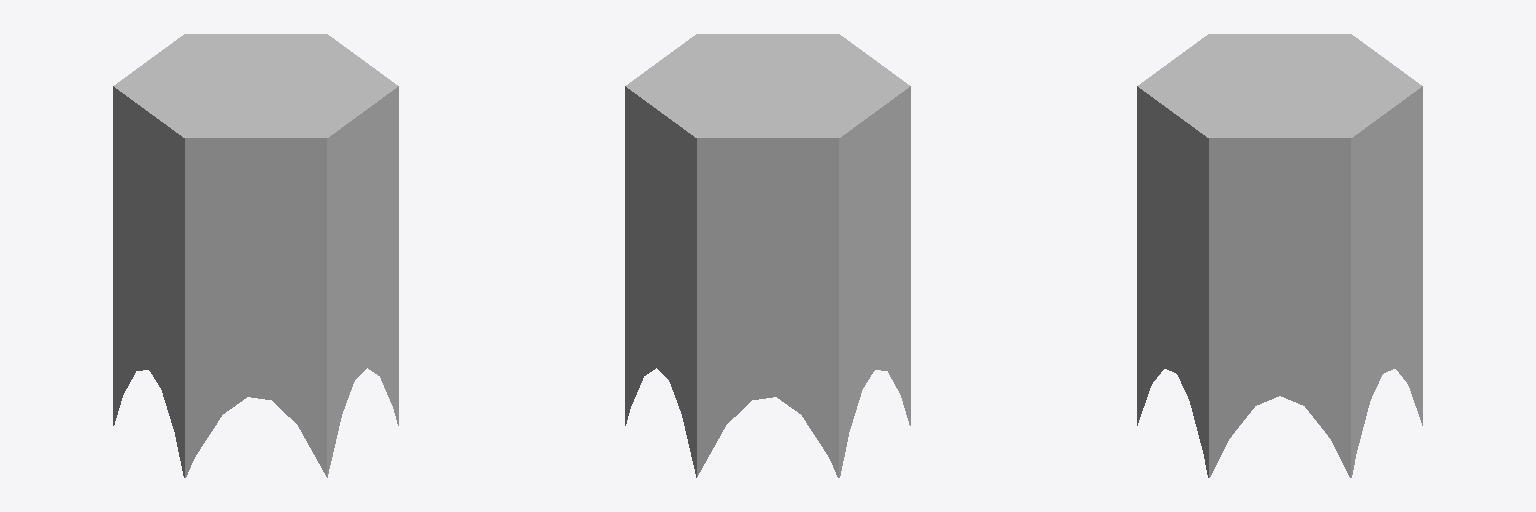
Rendered from Tunnel Object True.mtl.obj.
3 renders of one model, left to right at view 1: azimuth 30°, elevation 25°; view 2: azimuth 150°, elevation 25°; view 3: azimuth 270°, elevation 25°, orthographic.
Visible parts, largest first — view 1: Circle; view 2: Circle; view 3: Circle.
Boxes of the visible parts, x1=… form: Circle: x1=113, y1=34, x2=398, y2=477; Circle: x1=625, y1=34, x2=910, y2=477; Circle: x1=1137, y1=34, x2=1422, y2=477.
Bounding box in the file's own units: 1.73 × 2.62 × 2.